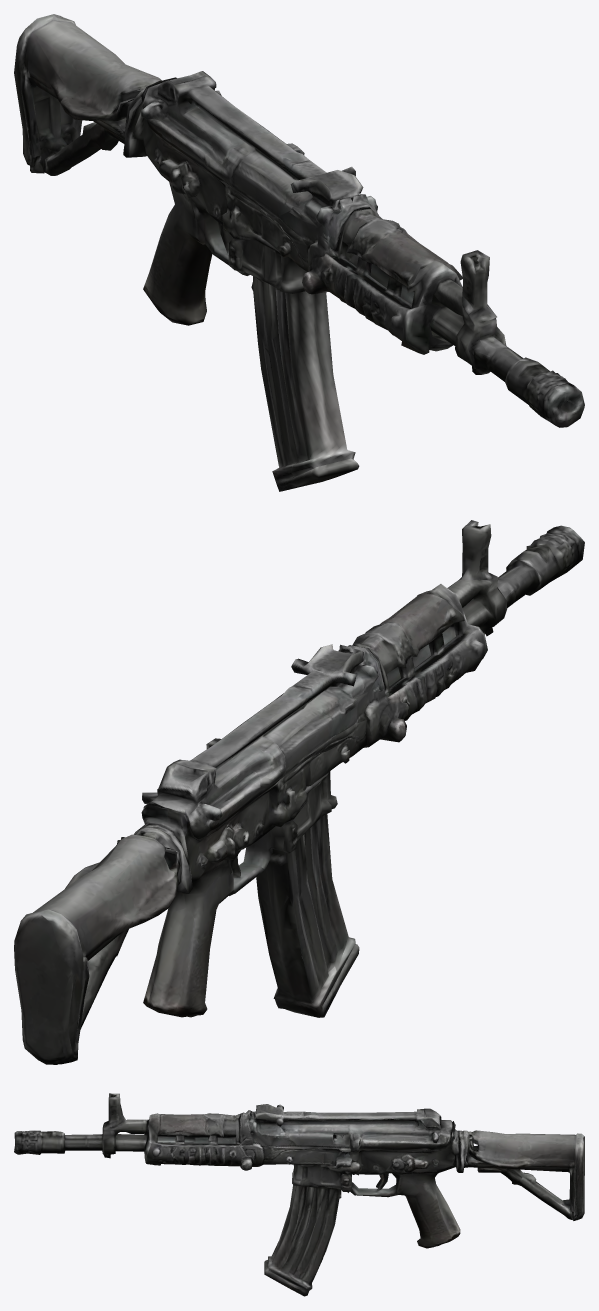
Rendered from w_val.glb.
The picture shows the model from 3 angles, top to bottom: view 1: azimuth 30°, elevation 25°; view 2: azimuth 150°, elevation 25°; view 3: azimuth 270°, elevation 25°; orthographic projection. The views are drawn at different scales.
Parts seen in each view (by area): view 1: tripo_node_187c24a3-22f1-4610-b79e-b7847169b7ca; view 2: tripo_node_187c24a3-22f1-4610-b79e-b7847169b7ca; view 3: tripo_node_187c24a3-22f1-4610-b79e-b7847169b7ca.
Boxes of the visible parts, <box> form: tripo_node_187c24a3-22f1-4610-b79e-b7847169b7ca: <box>14,14,584,491</box>; tripo_node_187c24a3-22f1-4610-b79e-b7847169b7ca: <box>14,520,584,1064</box>; tripo_node_187c24a3-22f1-4610-b79e-b7847169b7ca: <box>14,1093,584,1296</box>.
Bounding box in the file's own units: 0.1103 × 0.3712 × 0.9802.
1 material, 1 textured.
